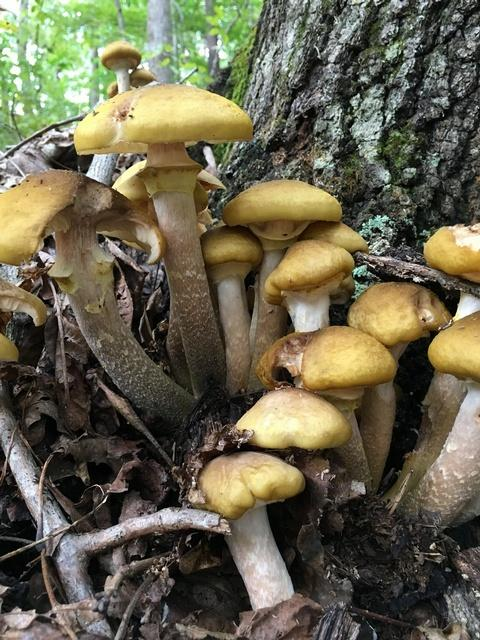Edible Mushroom: (72, 81, 254, 399), (0, 167, 198, 431), (257, 160, 396, 461), (188, 449, 305, 610), (396, 210, 480, 397)
